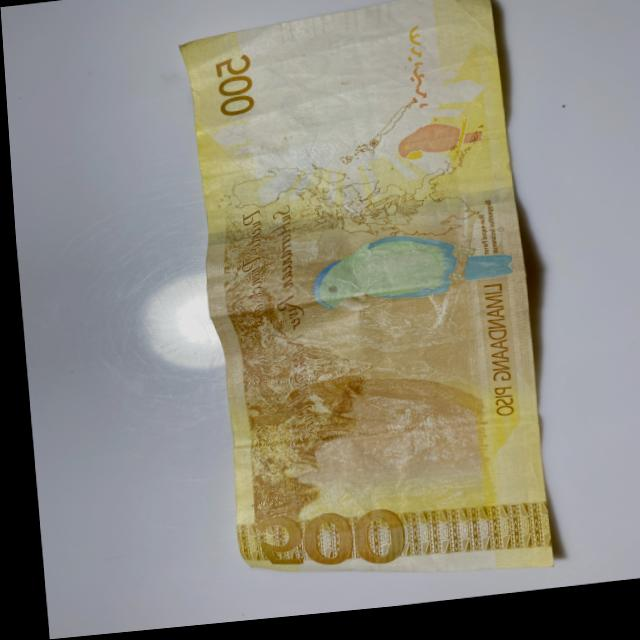500_big_parrot: (306, 229, 509, 325)
500_parrot_watermark: (392, 123, 487, 175)
value_watermark: (320, 38, 374, 63)
